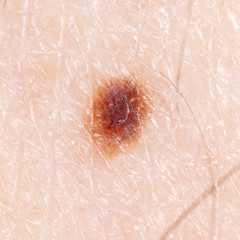melanoma: (77, 71, 169, 164)
